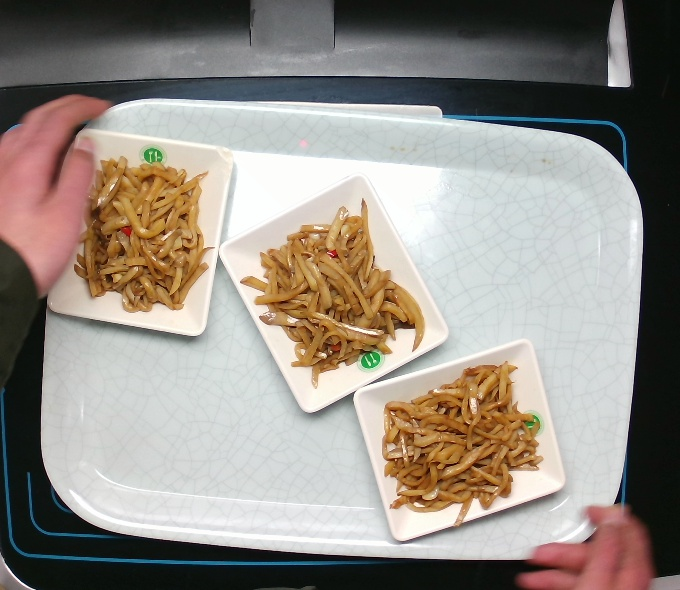wcq-LiangBanMoGu: (235, 195, 431, 392), (378, 358, 549, 530), (67, 152, 220, 316)
